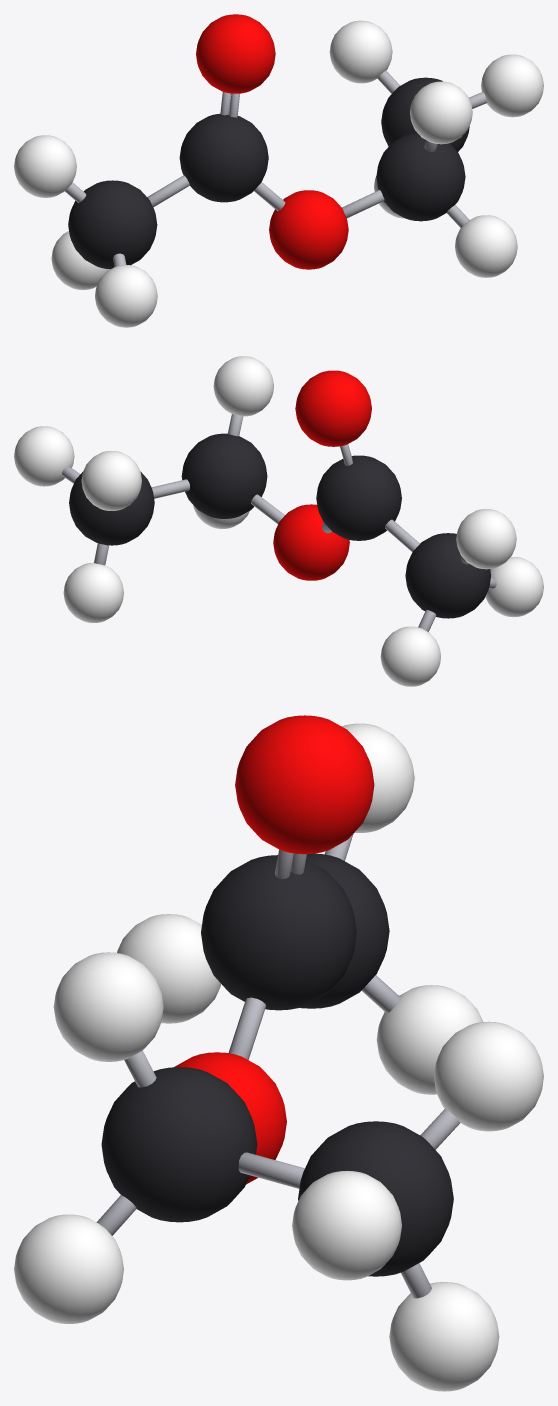
The model's file is ethyl-ethanoate.glb.
3 renders of one model, top to bottom at view 1: azimuth 30°, elevation 25°; view 2: azimuth 150°, elevation 25°; view 3: azimuth 270°, elevation 25°, orthographic. The views are drawn at different scales.
Visible parts, largest first — view 1: C3, C4, C1, O5, O2, H12, H13, H10, H9, H7, H6, C0 (+4 smaller); view 2: C3, C1, C4, O5, O2, C0, H11, H12, H9, H7, H8, H6 (+5 smaller); view 3: C1, C3, O5, C0, H9, H6, H10, H7, H8, H11, H13, C4 (+6 smaller).
Part boxes in pixels (box(x1,y1,x2,y2)): C3: box(179, 113, 268, 202); C4: box(68, 180, 157, 269); C1: box(376, 132, 465, 221); O5: box(196, 14, 275, 93); O2: box(269, 190, 348, 269); H12: box(14, 135, 76, 197); H13: box(95, 265, 157, 327); H10: box(455, 215, 517, 277); H9: box(410, 81, 472, 144); H7: box(329, 20, 392, 83); H6: box(481, 54, 543, 117); C0: box(381, 77, 469, 151); C3: box(316, 455, 401, 540); C1: box(181, 433, 267, 518); C4: box(405, 533, 490, 618); O5: box(295, 370, 371, 446); O2: box(273, 504, 349, 580); C0: box(69, 471, 154, 545); H11: box(380, 626, 440, 686); H12: box(456, 509, 516, 569); H9: box(213, 356, 273, 416); H7: box(81, 451, 141, 510); H8: box(63, 562, 123, 622); H6: box(14, 426, 74, 486); C1: box(101, 1067, 257, 1222); C3: box(201, 855, 356, 1010); O5: box(235, 715, 374, 854); C0: box(298, 1121, 453, 1276); H9: box(53, 952, 163, 1061); H6: box(292, 1171, 401, 1280); H10: box(14, 1214, 123, 1323); H7: box(434, 1021, 543, 1131); H8: box(389, 1282, 499, 1391); H11: box(376, 985, 482, 1094); H13: box(117, 914, 221, 1023); C4: box(300, 853, 389, 1008).
Bounding box in the file's own units: 6.84 × 3.51 × 3.47.
